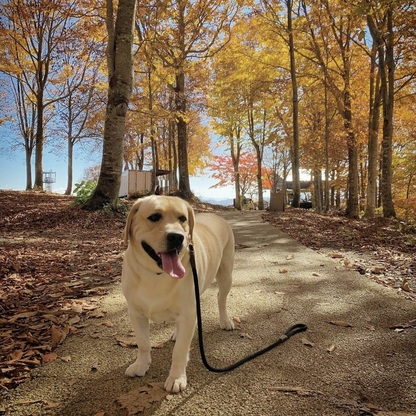labrado: (114, 190, 240, 397)
